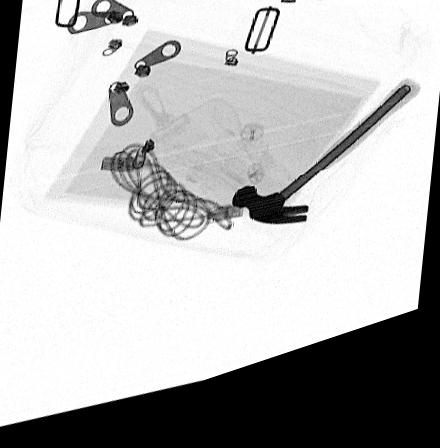Hammer: (230, 103, 420, 242)
